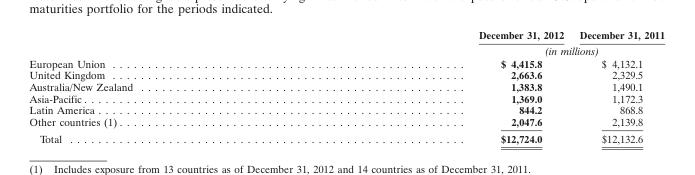table: (28, 28, 664, 144)
table column: (28, 28, 305, 144), (305, 28, 571, 144), (571, 28, 664, 144)
table column header: (28, 28, 664, 56)
table row: (28, 129, 664, 144), (28, 28, 664, 42), (28, 42, 664, 56), (28, 115, 664, 129), (28, 56, 664, 68), (28, 68, 664, 80), (28, 80, 664, 92), (28, 103, 664, 115), (28, 92, 664, 103)
table spanning cell: (305, 42, 664, 56)
